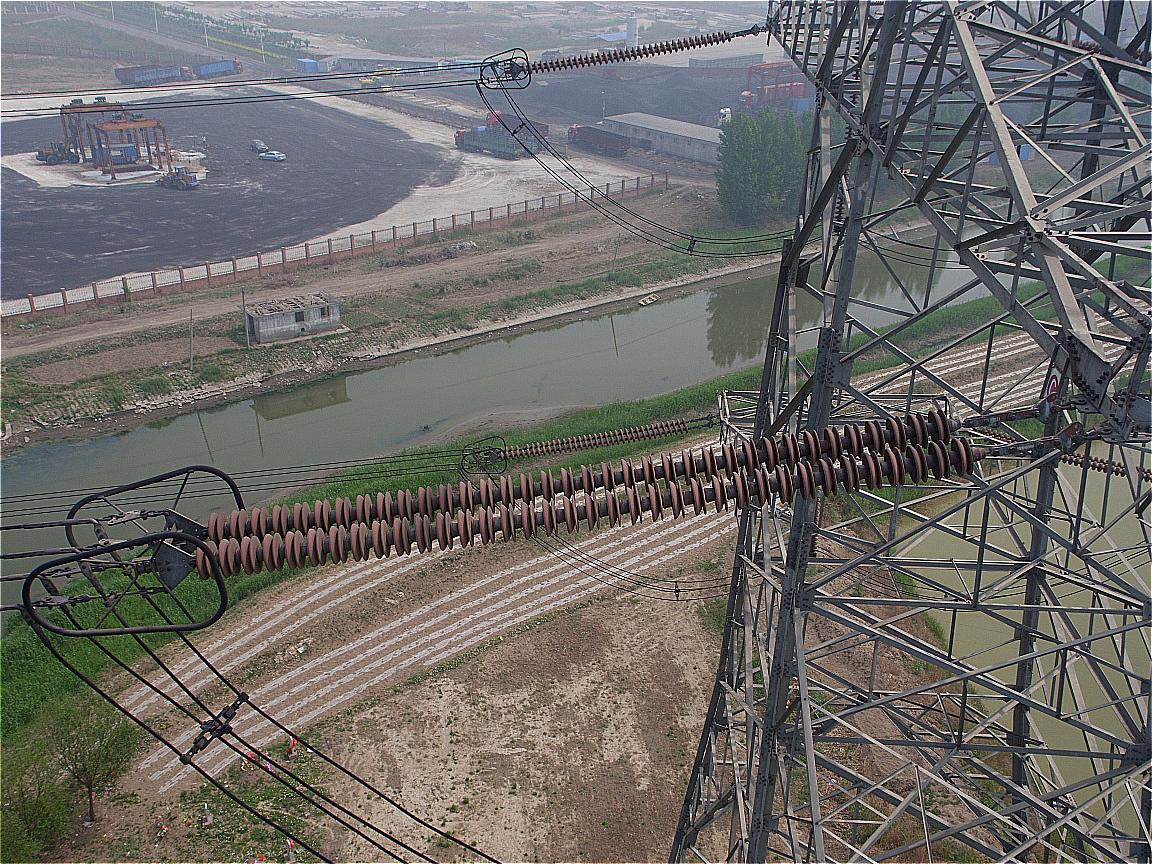insultor2: (183, 402, 988, 617)
